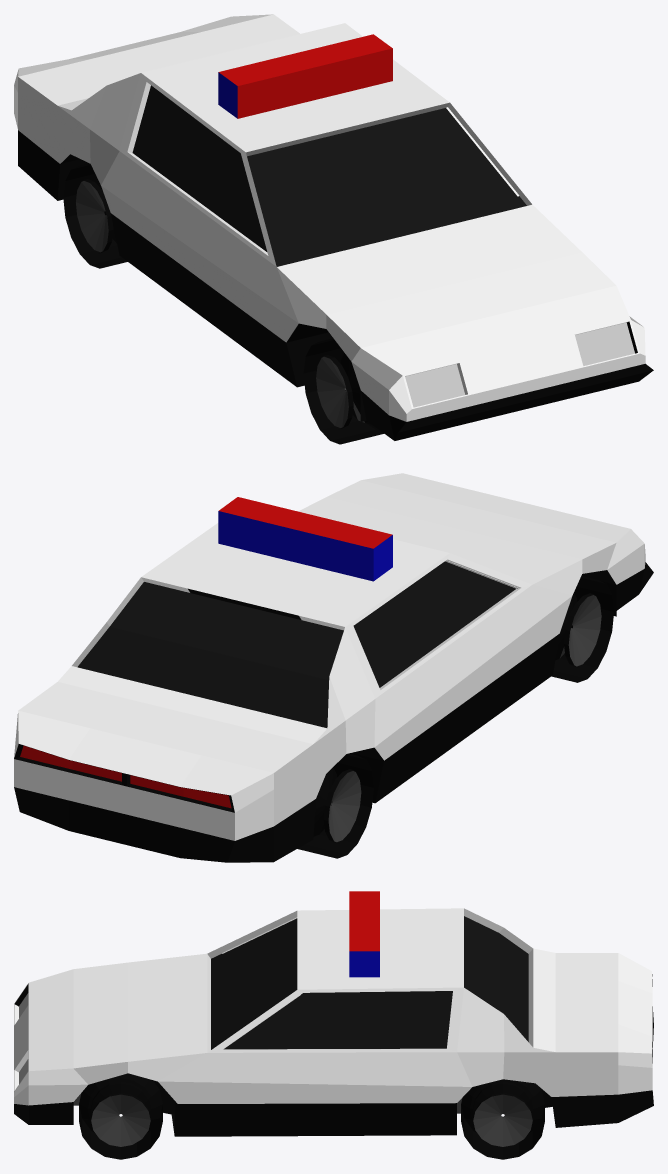
The model's file is CopCar.obj.
3 renders of one model, top to bottom at view 1: azimuth 30°, elevation 25°; view 2: azimuth 150°, elevation 25°; view 3: azimuth 270°, elevation 25°, orthographic. The views are drawn at different scales.
Parts seen in each view (by area): view 1: Cube.001; view 2: Cube.001; view 3: Cube.001.
Boxes of the visible parts, x1=… form: Cube.001: x1=14, y1=14, x2=653, y2=444; Cube.001: x1=14, y1=473, x2=653, y2=862; Cube.001: x1=14, y1=891, x2=653, y2=1159.
Size of the model in its own units: 1.52 by 1.26 by 3.86.
